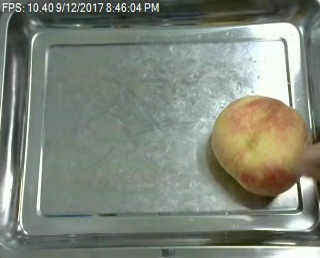Peach: (212, 95, 311, 195)
